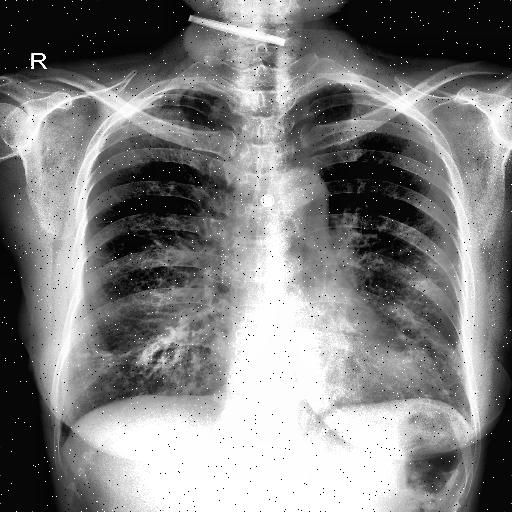11- Pleural thickening: (374, 89, 420, 122), (112, 96, 166, 122)
6- Infiltration: (380, 302, 468, 410)
7- Lung Opacity: (403, 329, 463, 405), (75, 348, 112, 360)
